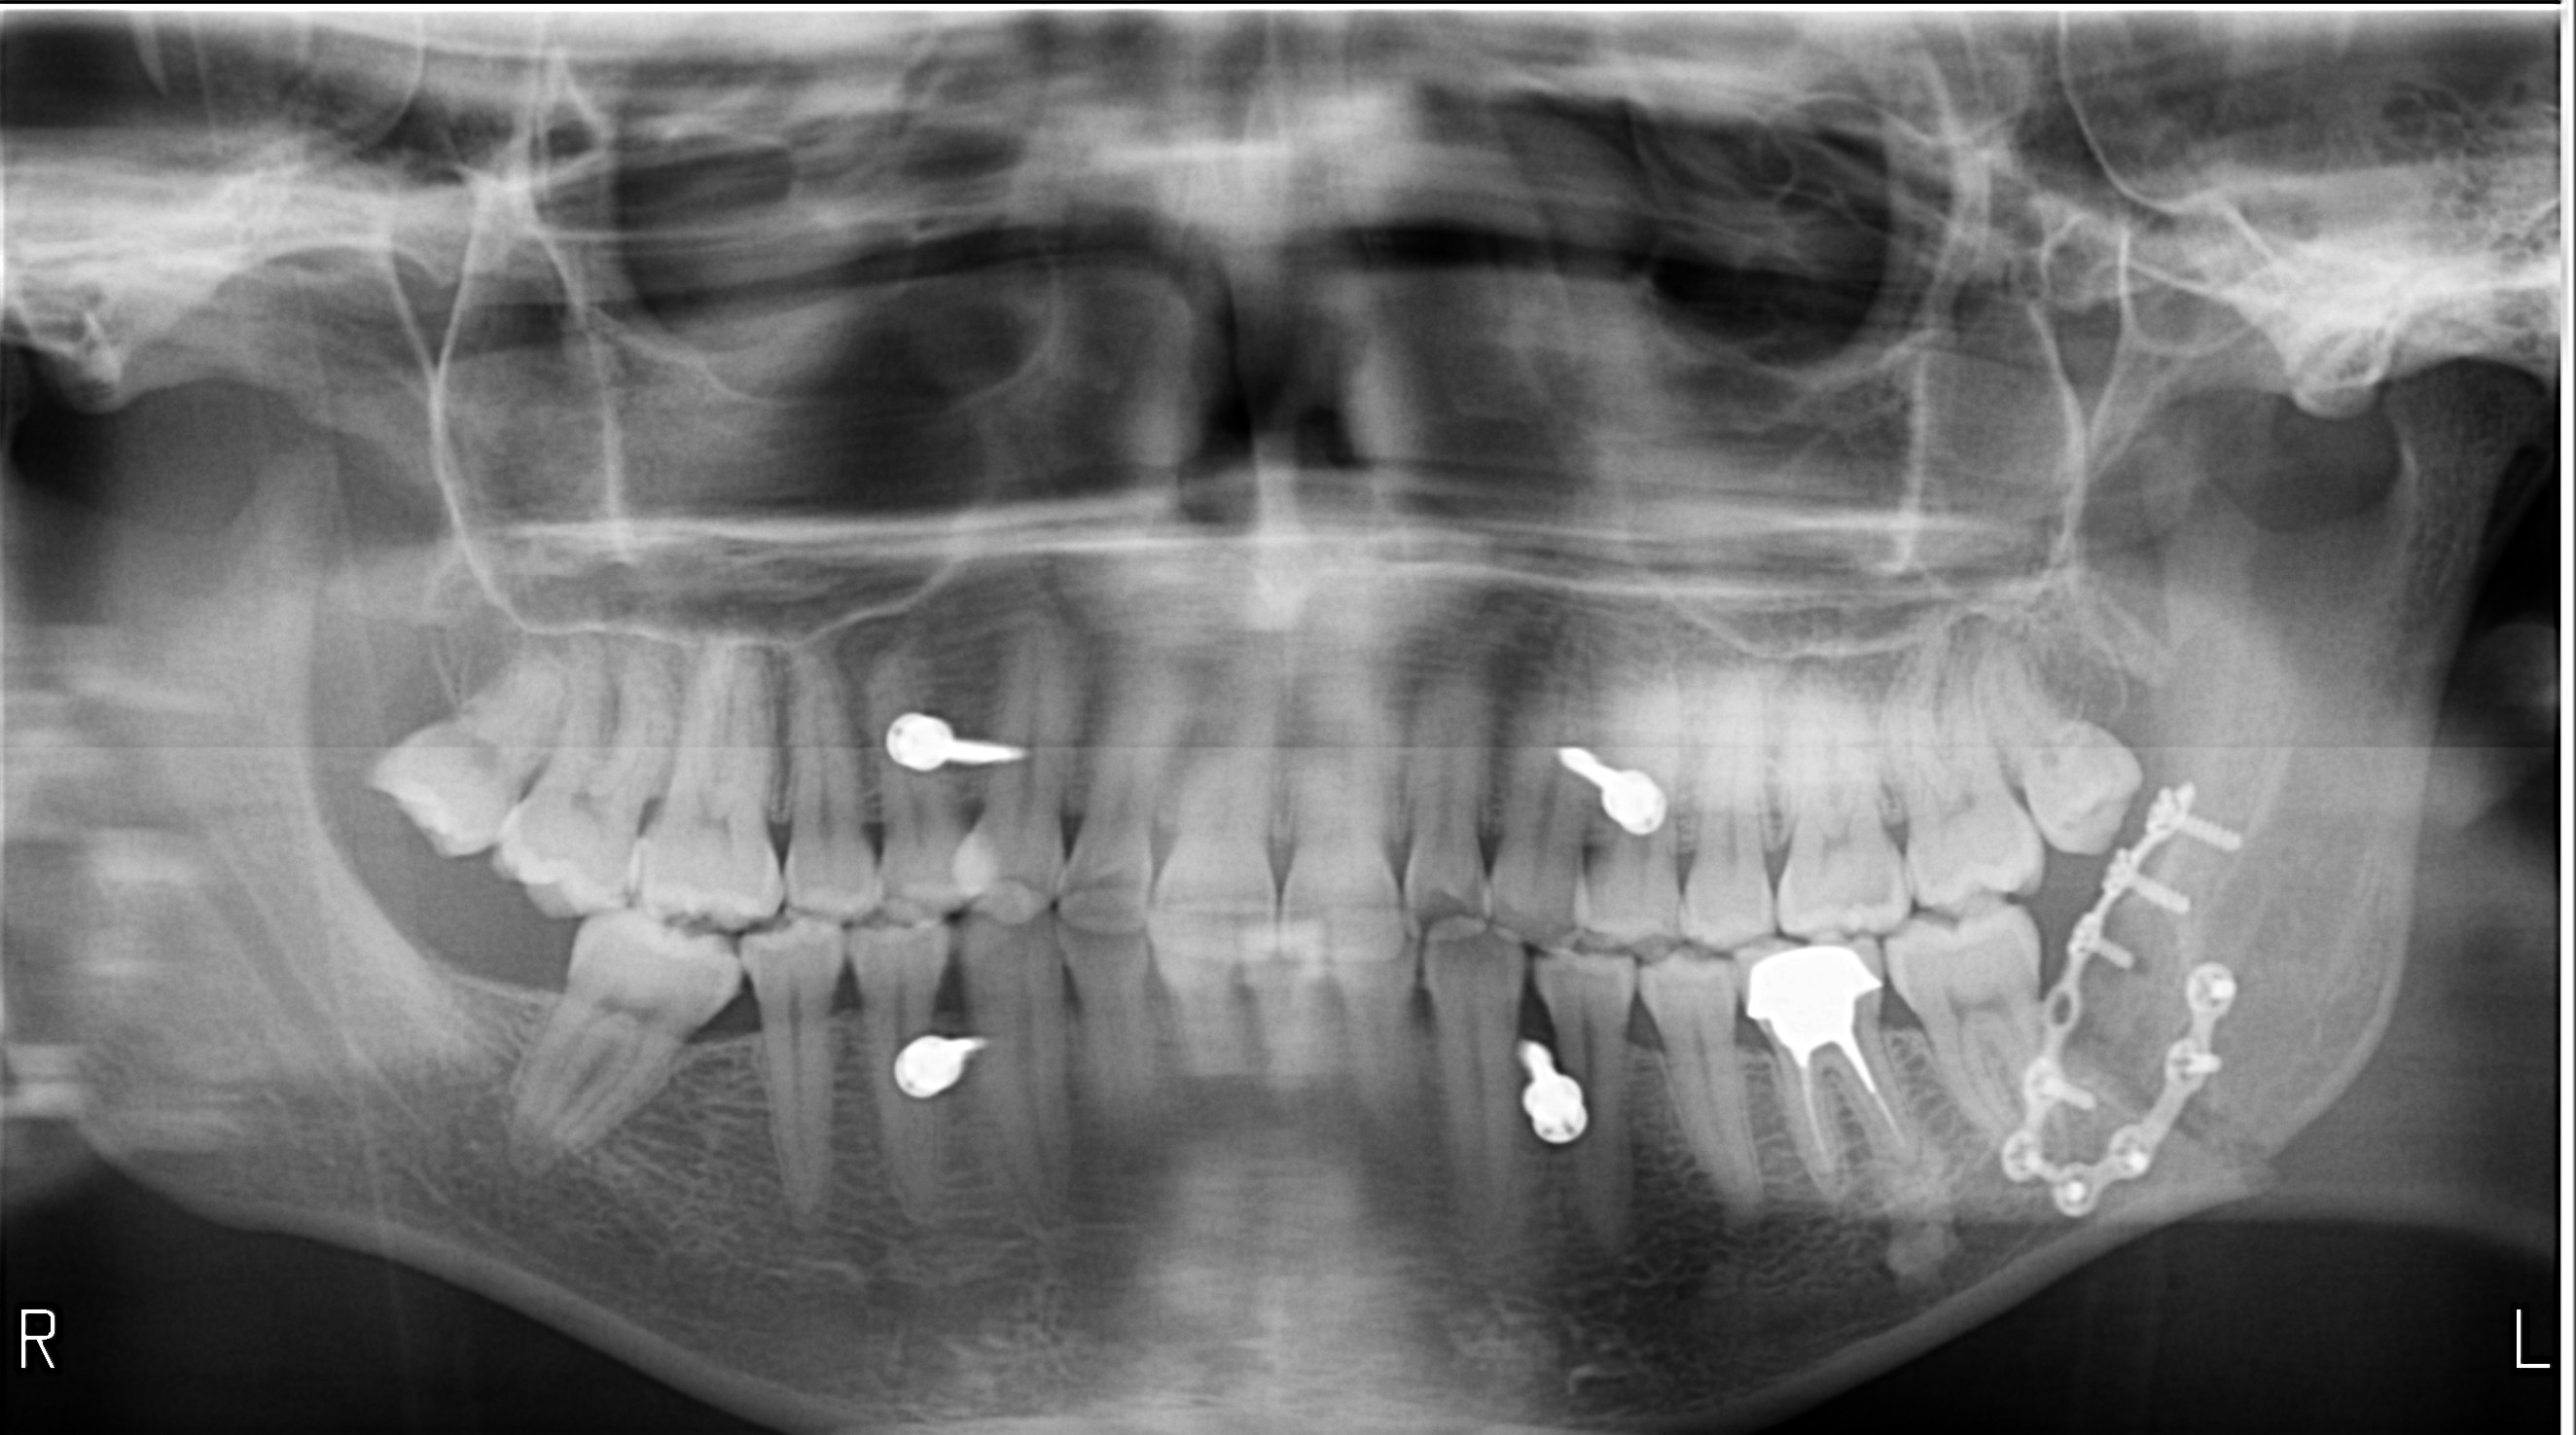END: (1790, 1027, 1933, 1219)
OBT: (1723, 915, 1905, 1057)
SRD: (1938, 767, 2283, 1193), (1993, 942, 2334, 1269), (1512, 728, 1707, 854), (1472, 1027, 1624, 1168), (857, 693, 1057, 799), (860, 1011, 1005, 1131)
